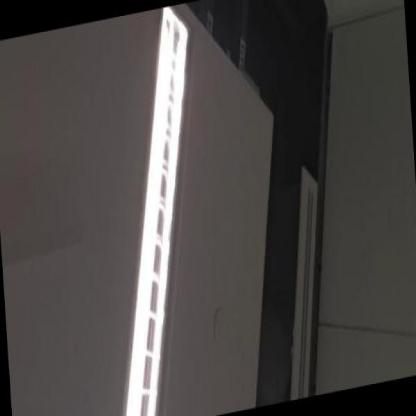light_on: (81, 0, 227, 415)
